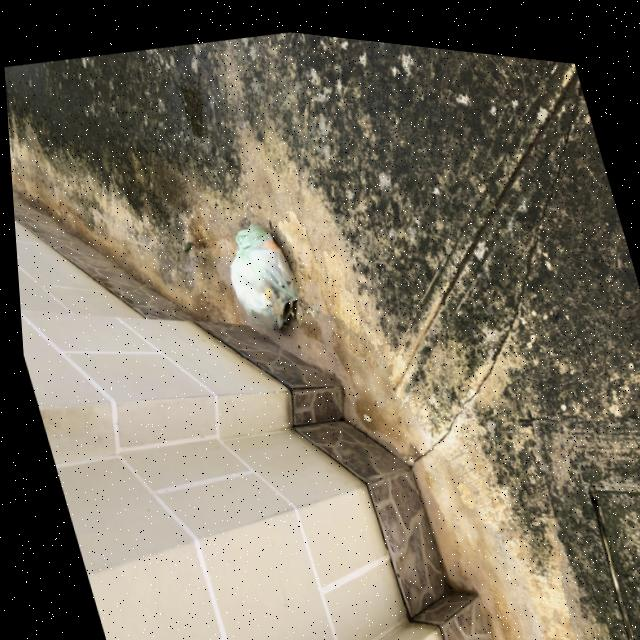Organic Waste -White Bag-: (211, 207, 311, 333)
